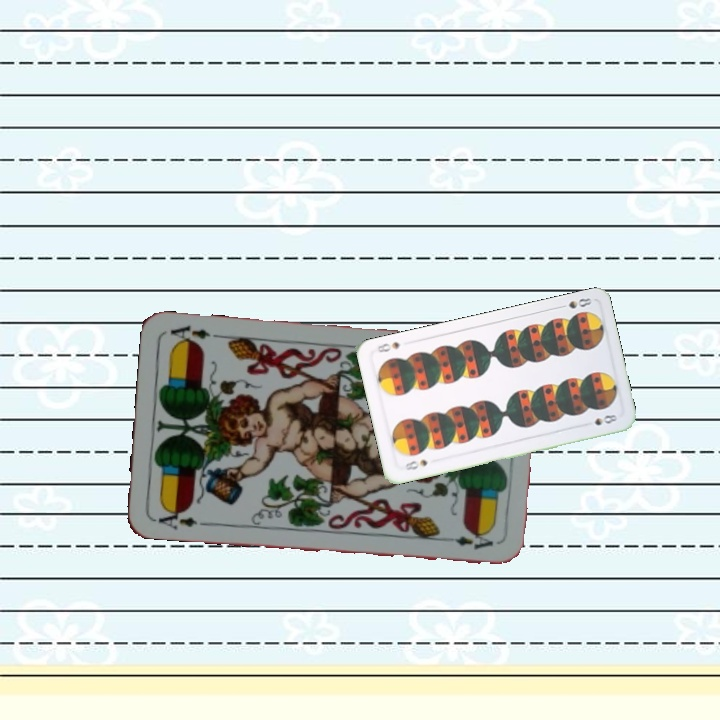EA: (150, 504, 200, 532)
S8: (554, 294, 594, 311), (400, 455, 430, 473)
